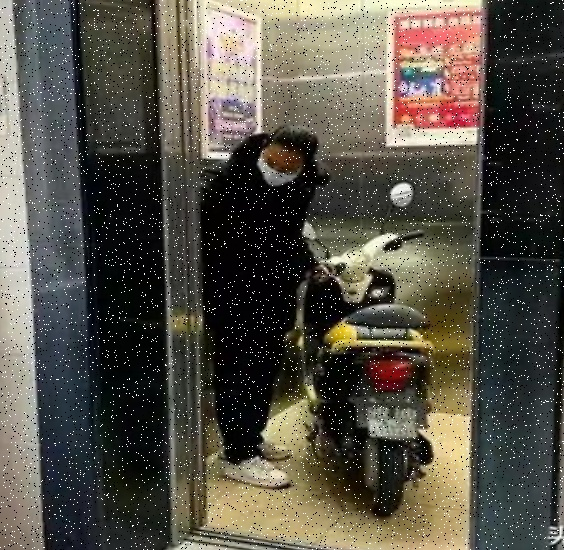ebike: (297, 186, 429, 510)
person: (203, 125, 324, 488)
